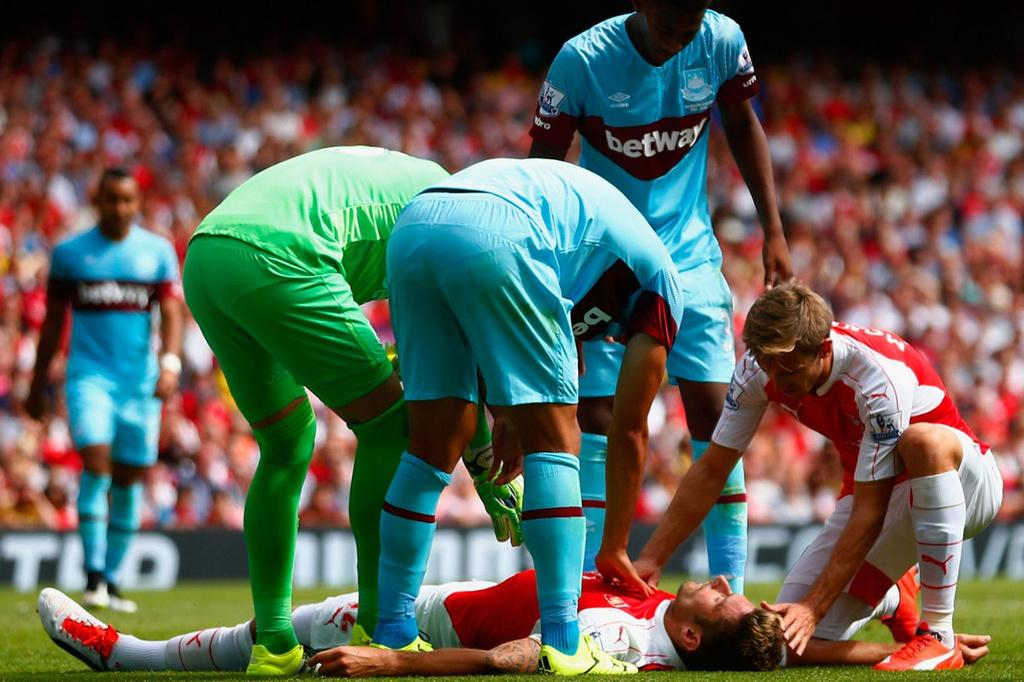bending: (521, 1, 797, 586), (634, 280, 1024, 682), (380, 152, 667, 675), (182, 140, 441, 668)
down: (21, 524, 849, 672)
up: (19, 157, 183, 621)
